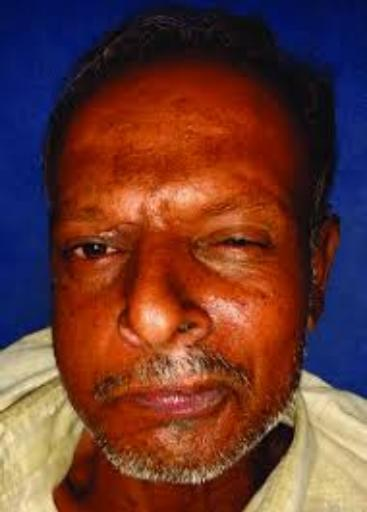left_eye: (197, 228, 268, 265)
left_lip_corner: (215, 375, 238, 401)
right_eye: (67, 241, 127, 266)
right_lip_corner: (120, 386, 150, 408)
